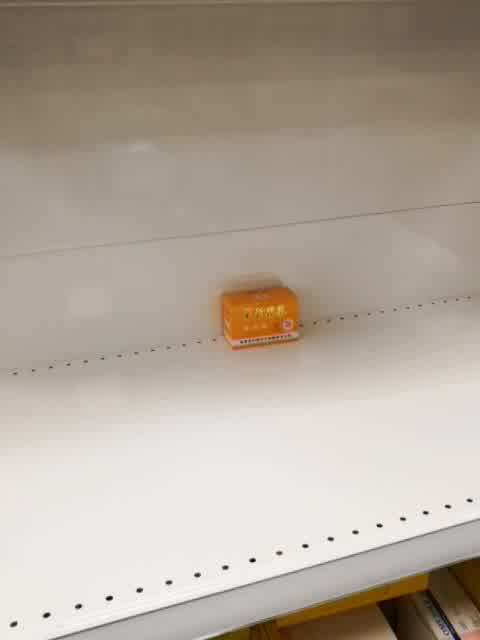jasminetea: (218, 282, 301, 350)
